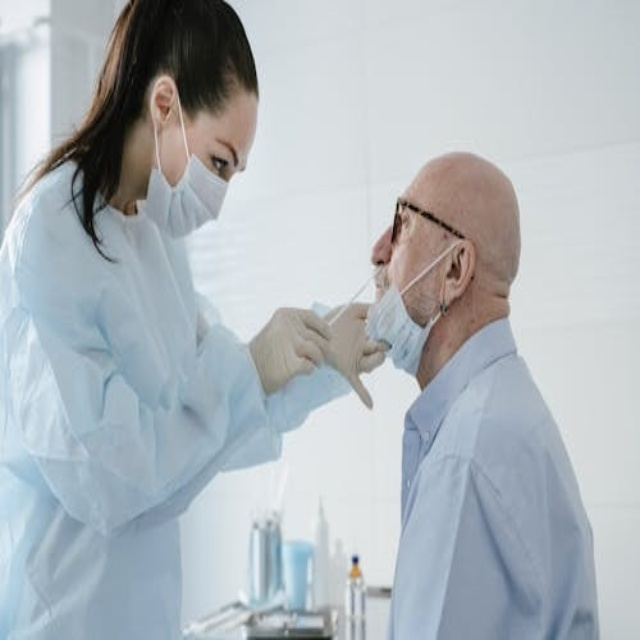Gafas: (387, 186, 468, 248)
Guantes: (249, 306, 336, 398), (323, 296, 385, 417)
Mascara: (143, 73, 232, 240)
Sin_gafas: (196, 117, 248, 185)
Sin_mascara: (371, 259, 407, 315)
